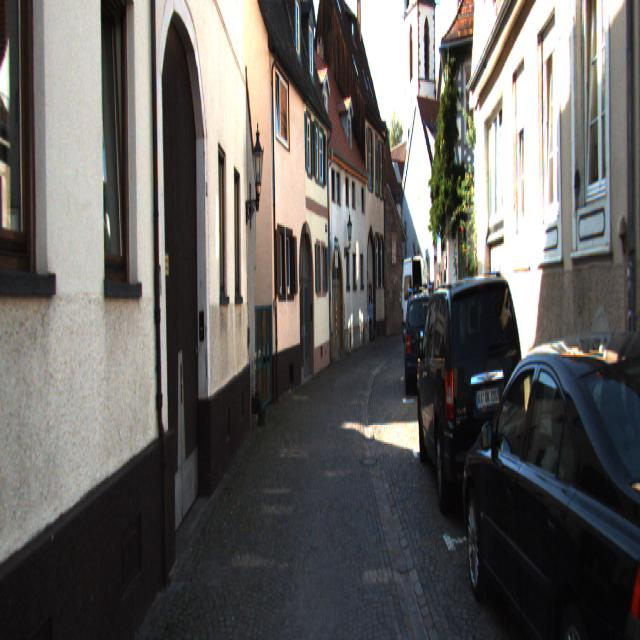Car: (464, 311, 640, 638), (414, 258, 530, 530), (402, 253, 435, 356), (404, 290, 436, 394)
